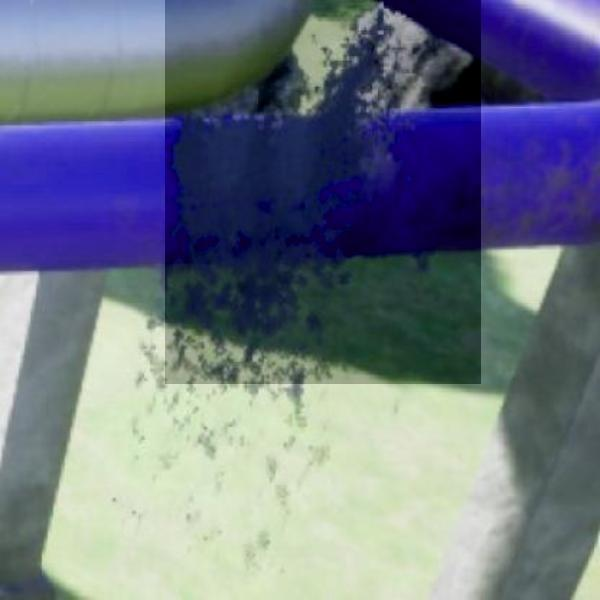gas: (165, 0, 481, 384)
